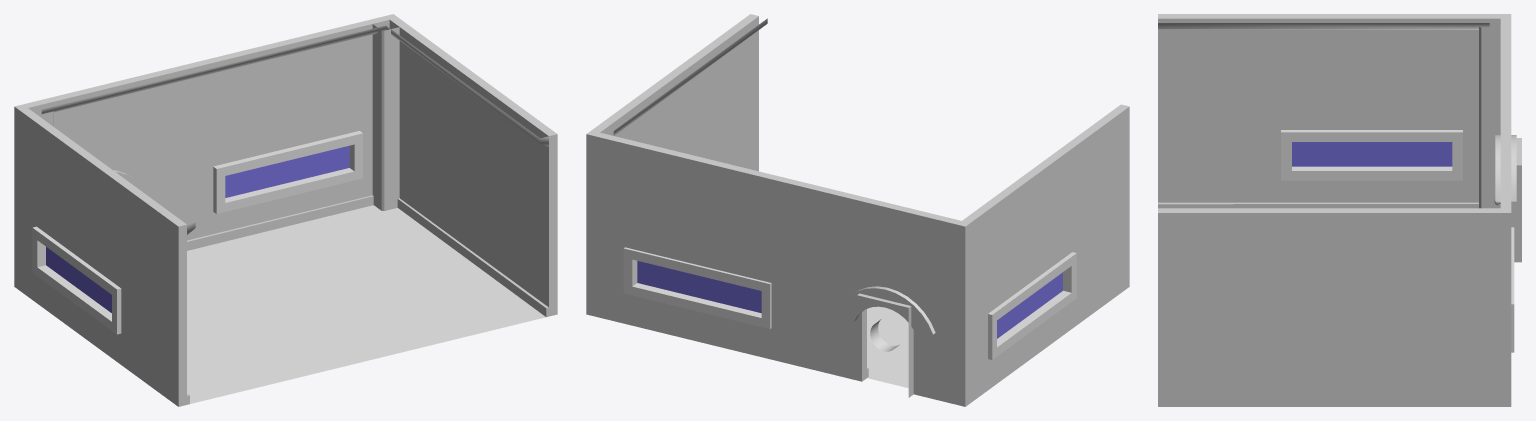
File: Room.gltf
3 renders of one model, left to right at view 1: azimuth 30°, elevation 25°; view 2: azimuth 150°, elevation 25°; view 3: azimuth 270°, elevation 25°, orthographic. The views are drawn at different scales.
Visible parts, largest first — view 1: RoomWalls, RoomFloor, Sill01, RoomCornerTrim, Sill02, RoomBaseboardTrim, RoomCrownTrim; view 2: RoomWalls, Sill01, Sill02, RoomFloor, Door, DoorMesh, RoomCrownTrim; view 3: RoomWalls, Sill02, RoomCornerTrim, RoomCrownTrim, RoomBaseboardTrim, DoorMesh, Door, Sill01.
Part boxes in pixels (<box>): RoomWalls: <box>14,14,557,406</box>; RoomFloor: <box>187,205,545,403</box>; Sill01: <box>213,131,362,213</box>; RoomCornerTrim: <box>38,24,399,210</box>; Sill02: <box>32,226,121,334</box>; RoomBaseboardTrim: <box>187,195,548,404</box>; RoomCrownTrim: <box>41,25,548,234</box>; RoomWalls: <box>586,14,1129,406</box>; Sill01: <box>623,247,771,328</box>; Sill02: <box>988,252,1076,359</box>; RoomFloor: <box>867,306,908,387</box>; Door: <box>838,286,935,337</box>; DoorMesh: <box>857,293,913,397</box>; RoomCrownTrim: <box>613,18,767,135</box>; RoomWalls: <box>1158,14,1511,406</box>; Sill02: <box>1281,130,1462,180</box>; RoomCornerTrim: <box>1479,26,1500,208</box>; RoomCrownTrim: <box>1158,23,1489,29</box>; RoomBaseboardTrim: <box>1158,202,1478,208</box>; DoorMesh: <box>1494,138,1521,262</box>; Door: <box>1495,135,1516,201</box>; Sill01: <box>1511,227,1514,352</box>.
Bounding box in the file's own units: 22.25 × 10 × 17.
